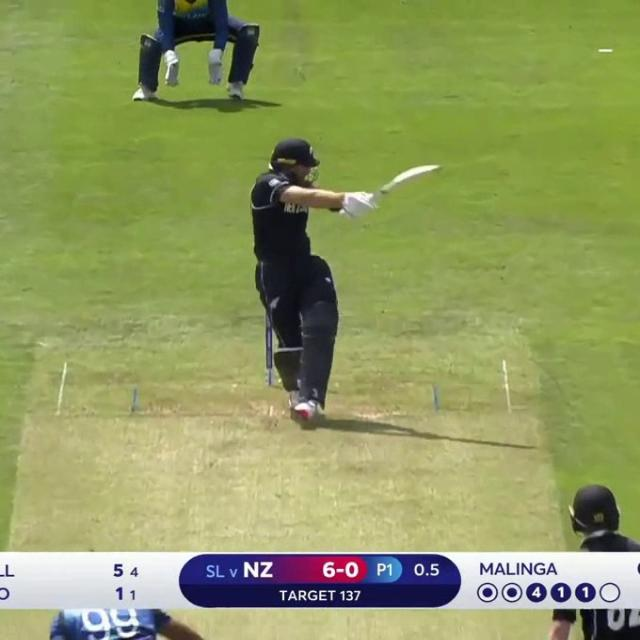bat: (360, 164, 440, 200)
